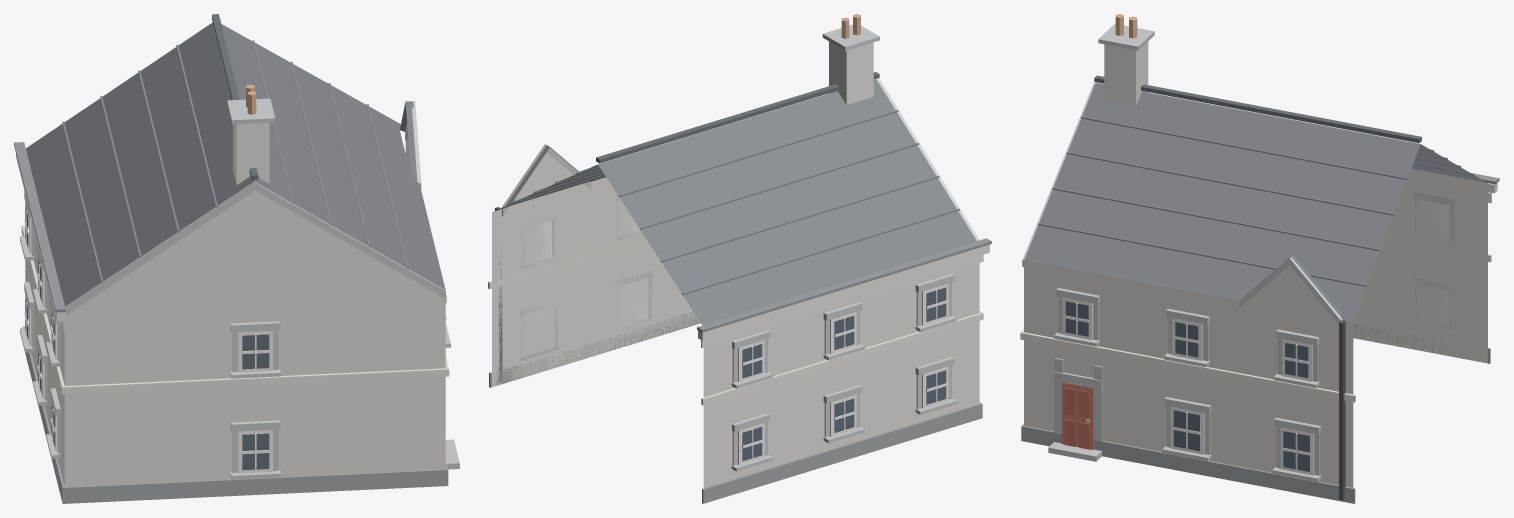
The picture shows the model from 3 angles, left to right: view 1: azimuth 30°, elevation 25°; view 2: azimuth 150°, elevation 25°; view 3: azimuth 270°, elevation 25°; orthographic projection. The views are drawn at different scales.
Visible parts, largest first — view 1: harl_grey, slate, stone_band, plinth, string, slate_lt, frame, chim_render, lead, window_glass_006, window_glass_007, slate_dk; view 2: harl_grey, slate, stone_band, string, plinth, frame, slate_lt, lead, chim_render, slate_dk; view 3: harl_grey, slate, stone_band, plinth, frame, slate_lt, string, chim_render, slate_dk, pipe, door_red_p, door_red (+5 smaller).
Part boxes in pixels (<box>): harl_grey: <box>25,136,445,486</box>; slate: <box>26,22,445,306</box>; stone_band: <box>20,98,459,479</box>; plinth: <box>22,326,448,503</box>; string: <box>16,154,449,394</box>; slate_lt: <box>62,40,408,282</box>; frame: <box>24,205,446,473</box>; chim_render: <box>233,123,269,184</box>; lead: <box>14,142,65,312</box>; window_glass_006: <box>242,433,269,470</box>; window_glass_007: <box>242,334,269,369</box>; slate_dk: <box>212,14,258,179</box>; harl_grey: <box>492,152,979,488</box>; slate: <box>493,79,976,325</box>; stone_band: <box>501,24,979,471</box>; string: <box>488,236,989,405</box>; plinth: <box>489,311,982,503</box>; frame: <box>525,212,948,464</box>; slate_lt: <box>512,110,959,294</box>; lead: <box>697,238,991,332</box>; chim_render: <box>829,41,873,104</box>; slate_dk: <box>596,72,879,163</box>; harl_grey: <box>1024,168,1487,487</box>; slate: <box>1024,82,1486,322</box>; stone_band: <box>1022,24,1455,481</box>; plinth: <box>1021,324,1490,503</box>; frame: <box>1062,201,1449,475</box>; slate_lt: <box>1038,116,1474,286</box>; string: <box>1020,170,1497,402</box>; chim_render: <box>1104,41,1148,106</box>; slate_dk: <box>1094,75,1421,143</box>; pipe: <box>1339,320,1345,500</box>; door_red_p: <box>1064,387,1089,449</box>; door_red: <box>1062,382,1093,449</box>.
Bounding box in the file's own units: 13.49 × 10.98 × 13.24.
